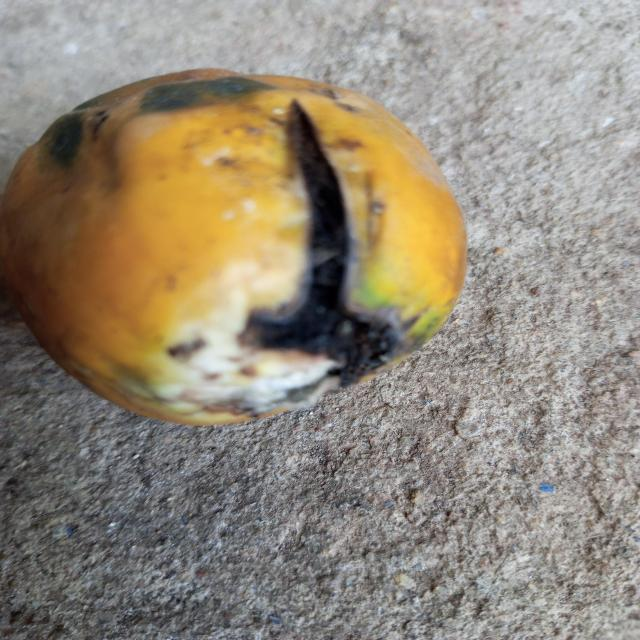damaged: (0, 68, 467, 430)
